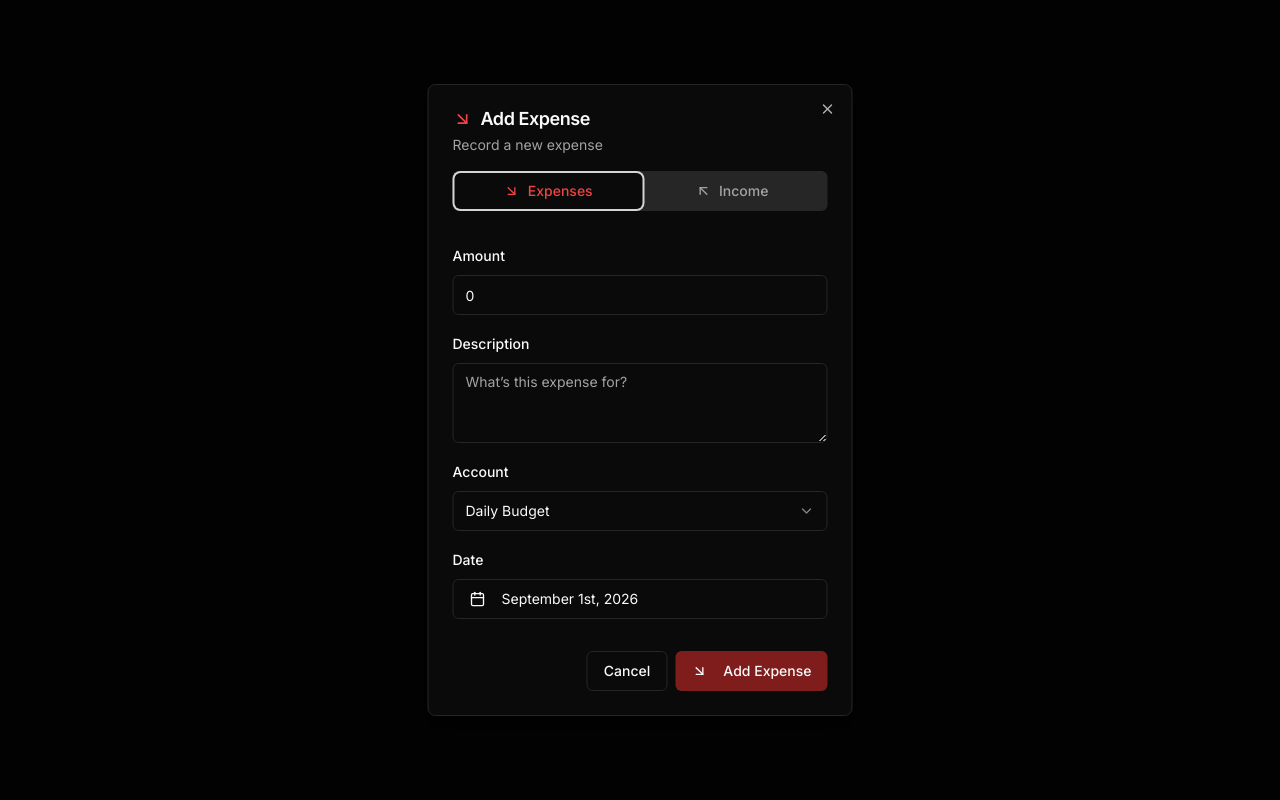
Test: TransactionModal account selector › marks negative balances in red
Click the dropdown at coordinates (507, 510), box [452,491,828,531]
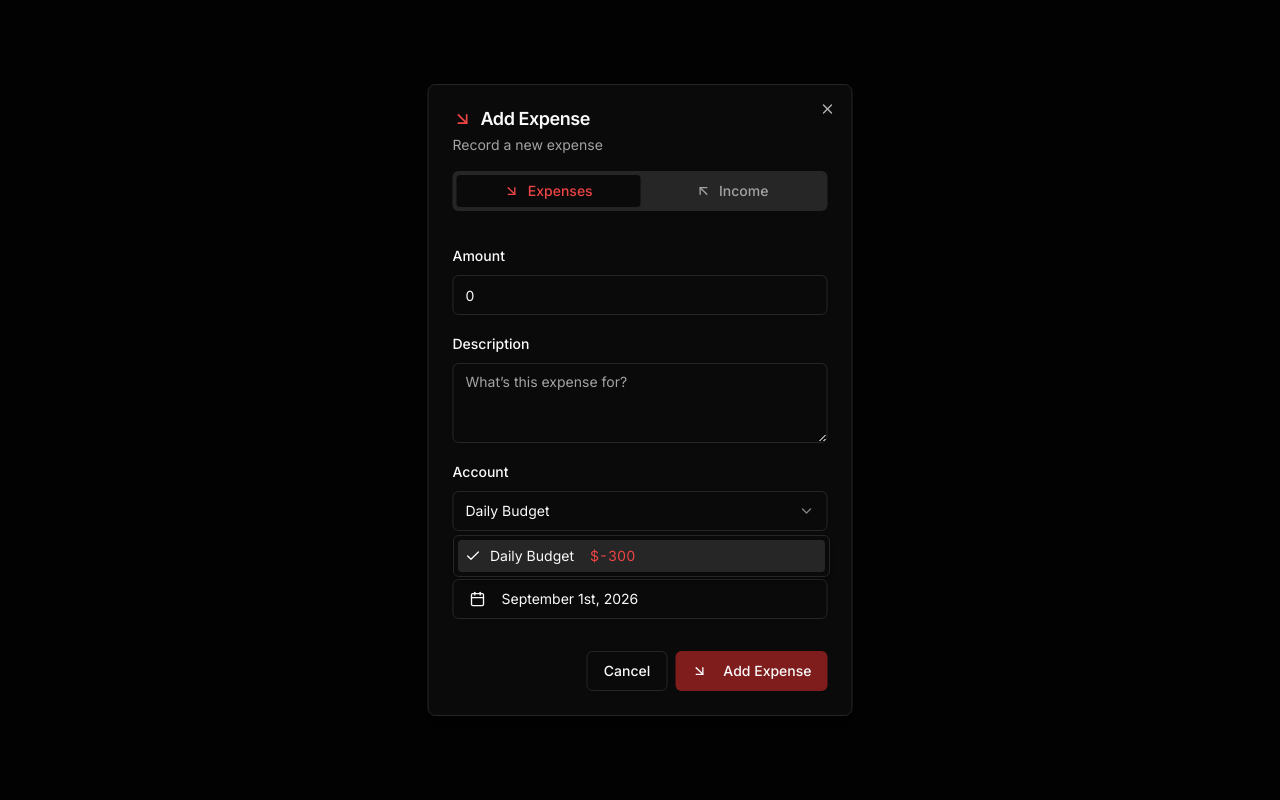
Result: the text with class "tabular-nums" reads "$-300" at [590,547,635,564]
